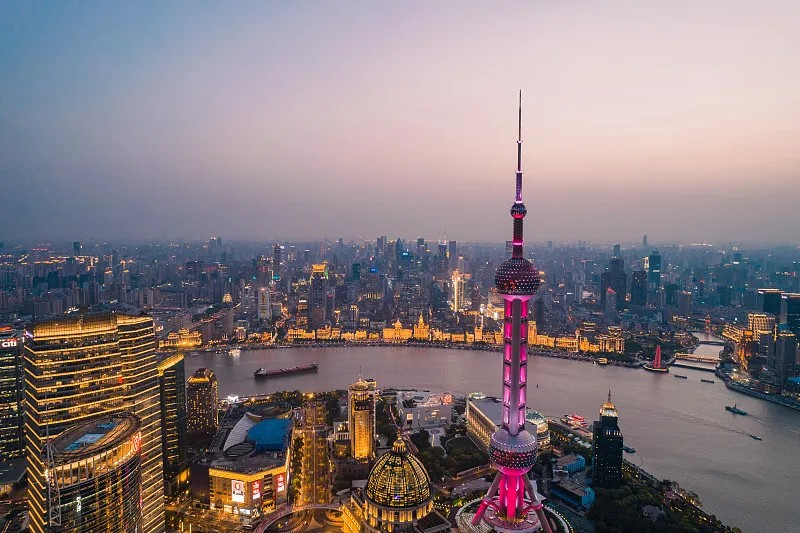Oriental: (470, 88, 551, 533)
